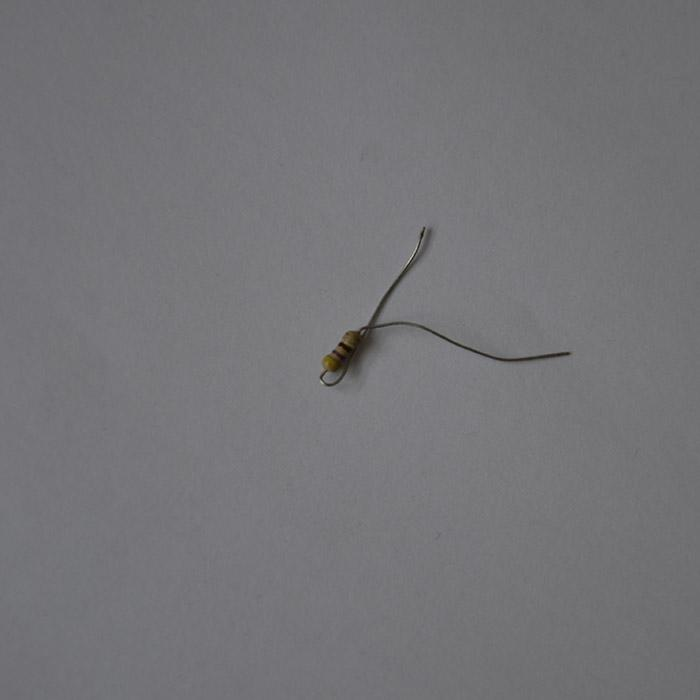resistor: (320, 328, 361, 375)
